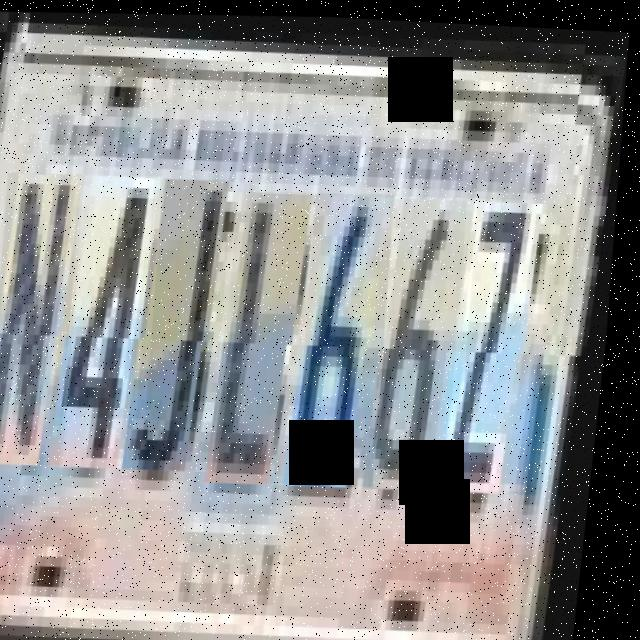4: (59, 171, 177, 469)
6: (374, 188, 491, 486), (294, 187, 408, 484)
J: (132, 173, 246, 470)
L: (216, 184, 329, 482)
N: (0, 170, 98, 466)
Z: (446, 190, 560, 487)
